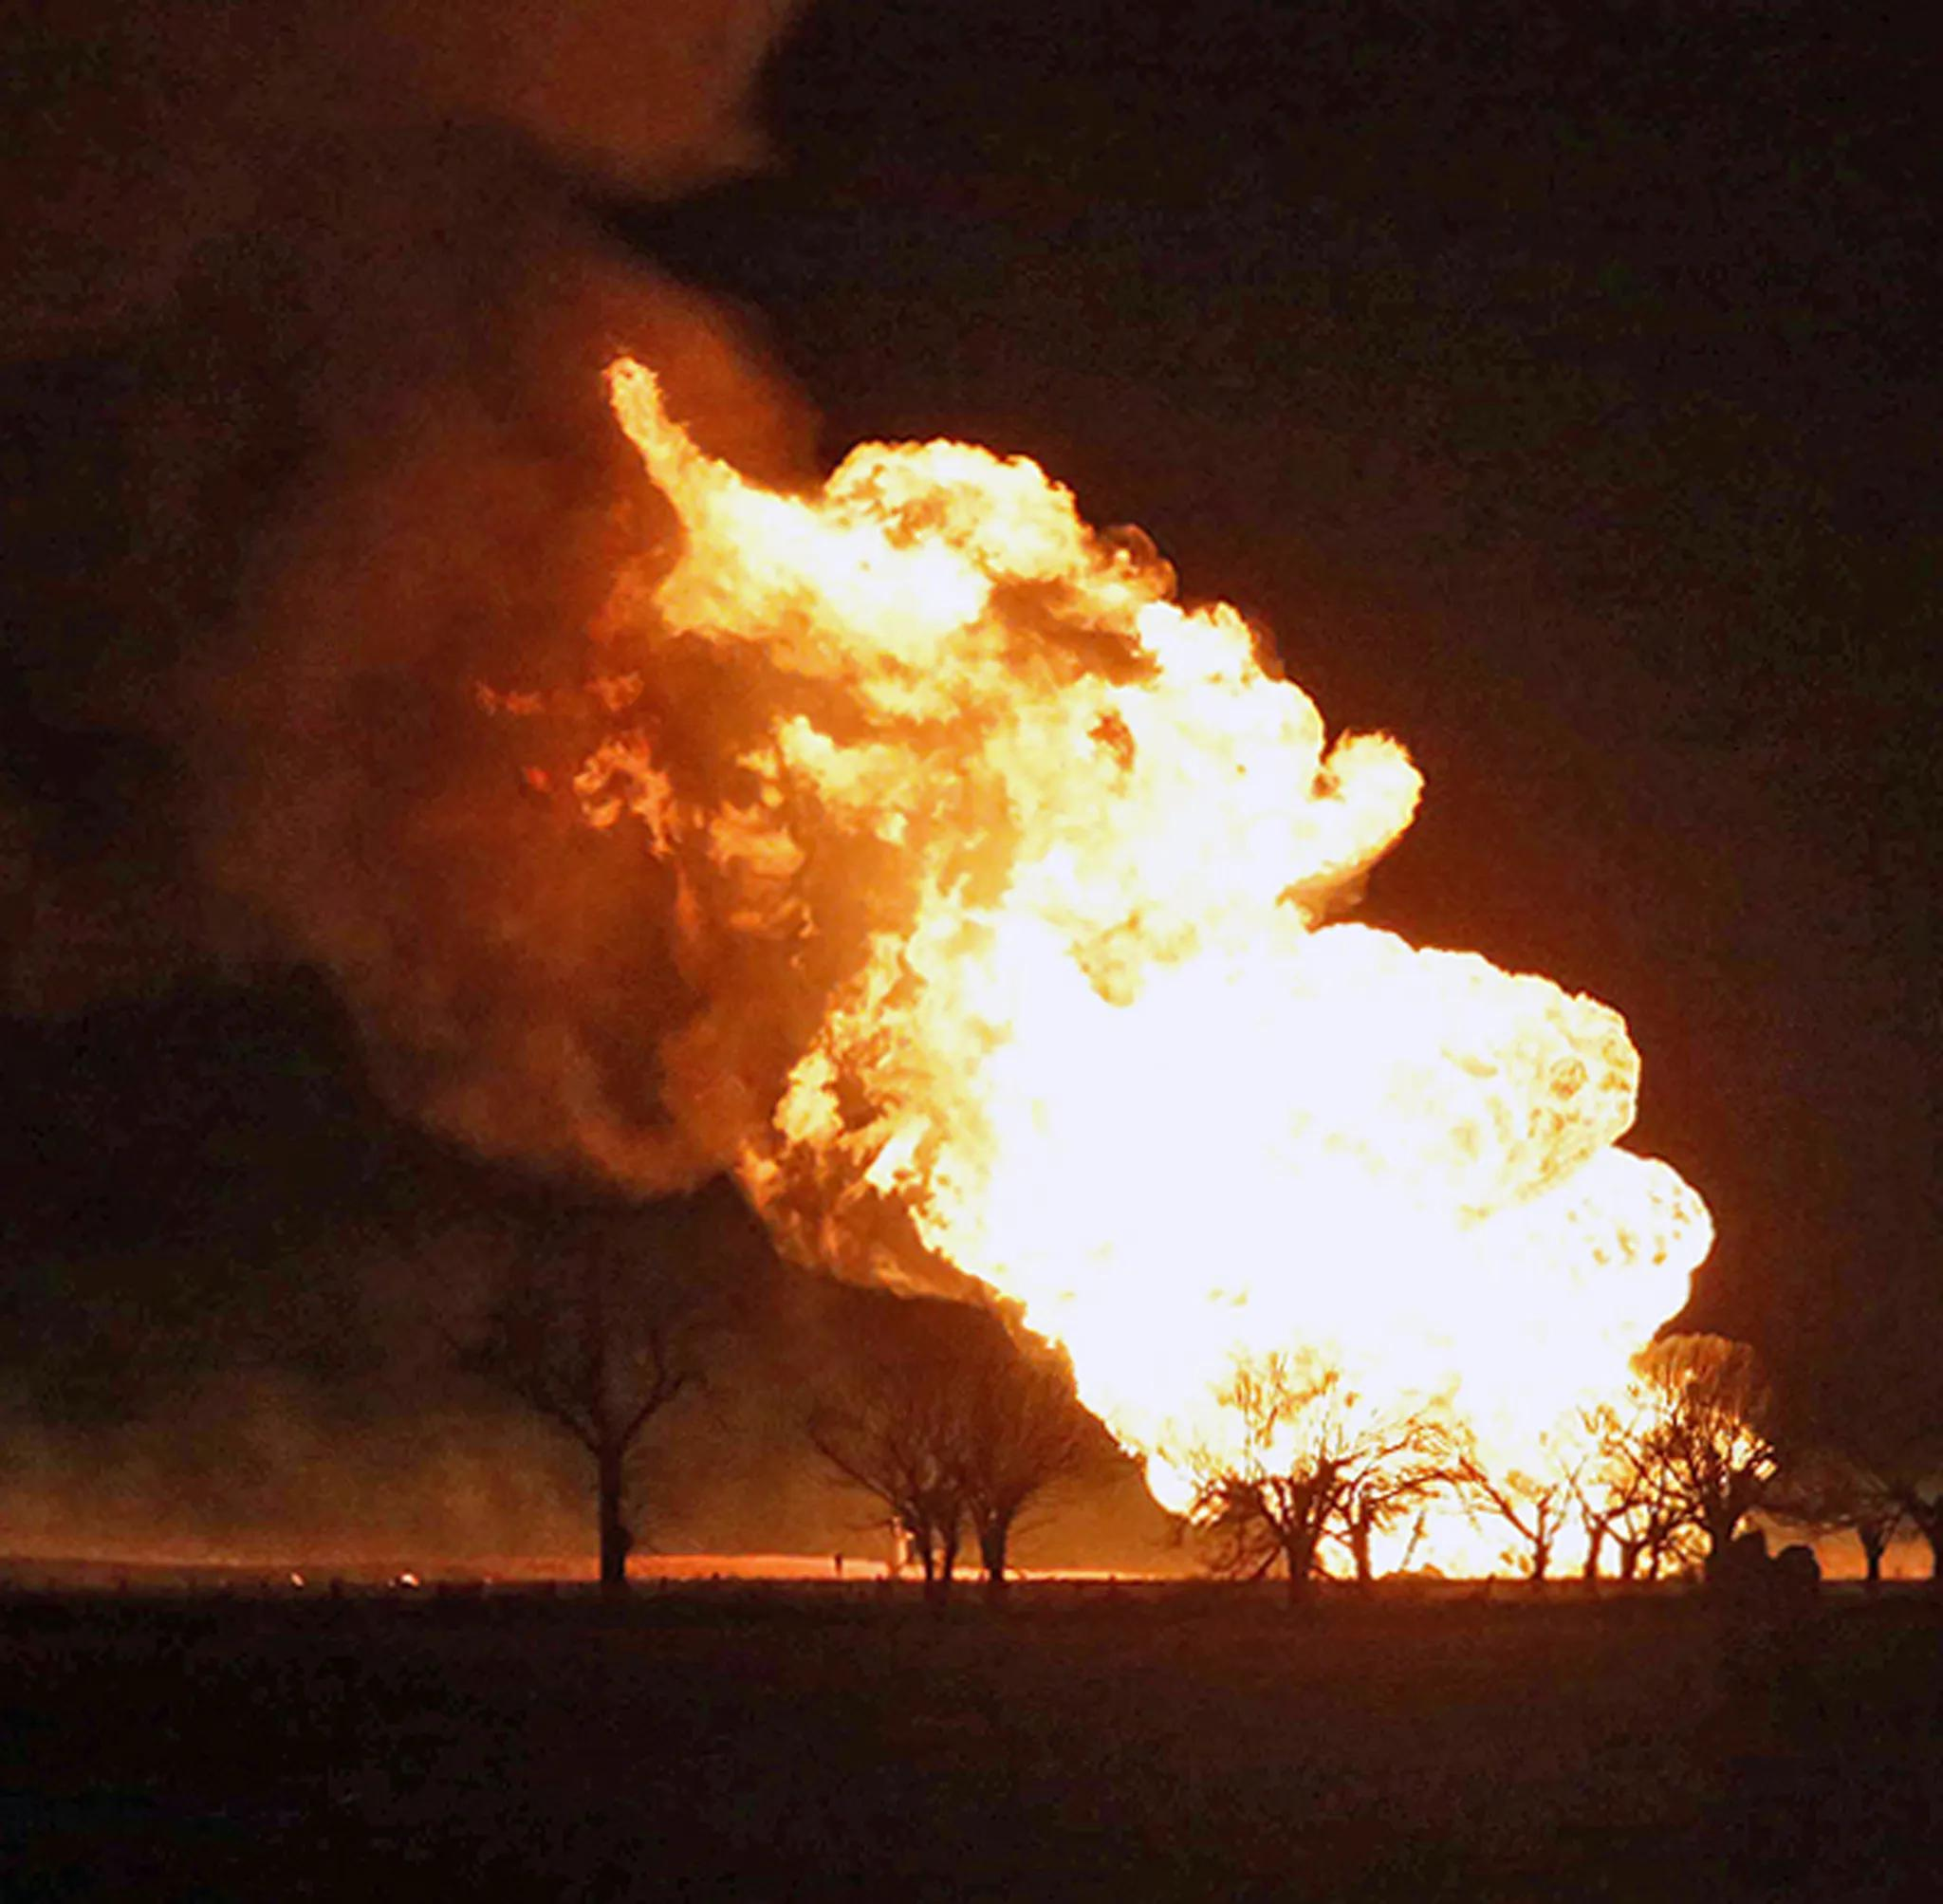fire: (495, 201, 1636, 1533)
